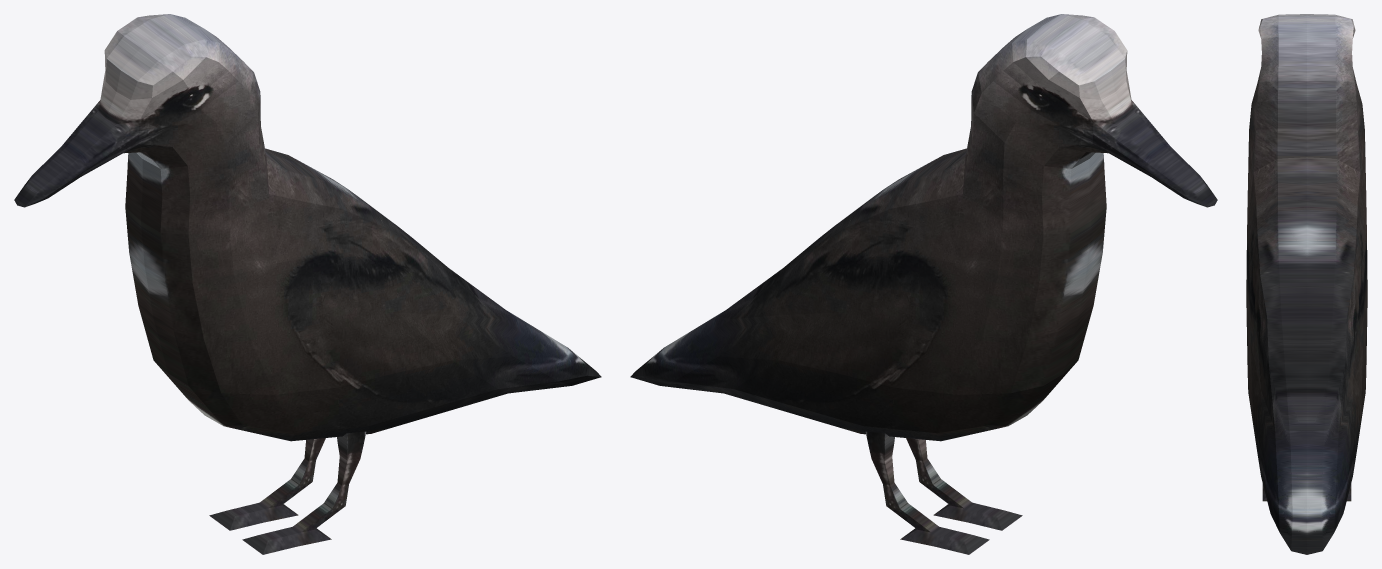
The model's file is black noddy.fbx.
3 views of the same model, side by side, from view 1: azimuth 30°, elevation 25°; view 2: azimuth 150°, elevation 25°; view 3: azimuth 270°, elevation 25° (orthographic). The views are drawn at different scales.
Parts seen in each view (by area): view 1: Body, Legs; view 2: Body, Legs; view 3: Body.
Part boxes in pixels (x1,y1,x2,y2): Body: (14, 14, 601, 441); Legs: (209, 431, 366, 554); Body: (630, 14, 1217, 441); Legs: (865, 431, 1022, 554); Body: (1246, 14, 1367, 554).
Bounding box in the file's own units: 377 × 325 × 83.16.
2 materials, 2 textured.
